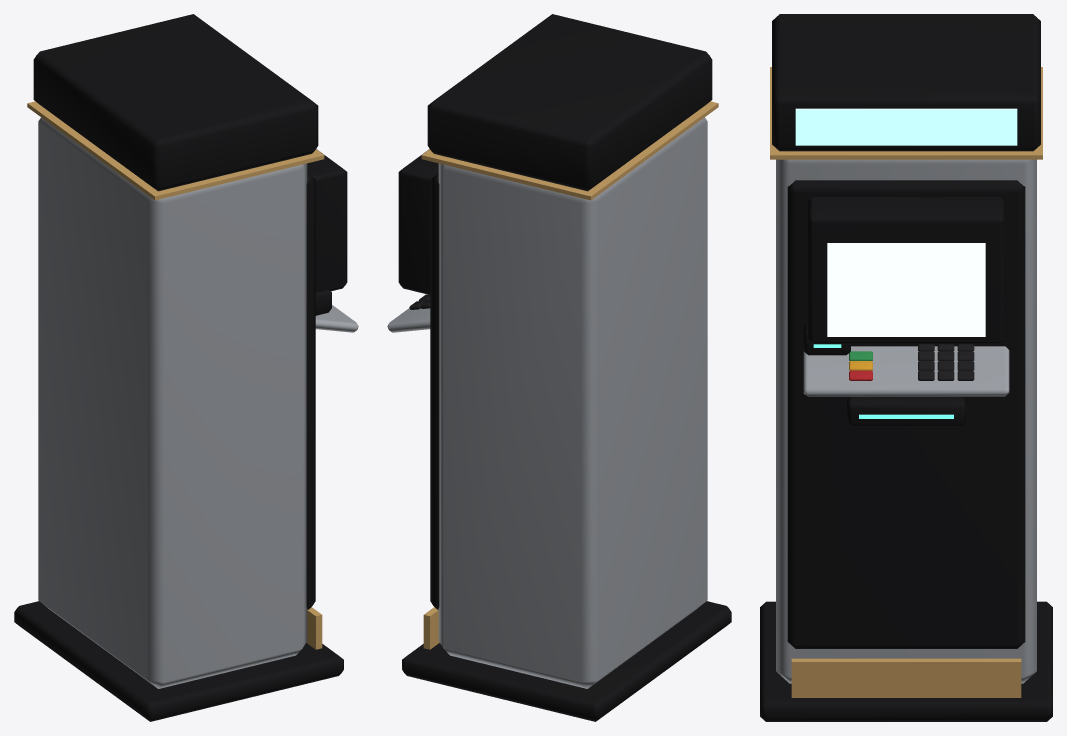
File: atm.glb
3 renders of one model, left to right at view 1: azimuth 30°, elevation 25°; view 2: azimuth 150°, elevation 25°; view 3: azimuth 270°, elevation 25°, orthographic. The views are drawn at different scales.
Parts seen in each view (by area): view 1: Mesh_Tower, Mesh_Header, Mesh_Plinth, Mesh_Hood, Mesh_Face, Mesh_TrimTop, Mesh_ShelfTop, Mesh_Kick; view 2: Mesh_Tower, Mesh_Header, Mesh_Plinth, Mesh_Hood, Mesh_Face, Mesh_TrimTop, Mesh_ShelfTop, Mesh_Kick; view 3: Mesh_Face, Mesh_Header, Mesh_Tower, Mesh_glowScreen, Mesh_Hood, Mesh_Plinth, Mesh_Kick, Mesh_glowHeader, Mesh_ShelfTop, Mesh_CashBox, Mesh_TrimTop, Mesh_Reader (+1 smaller).
Part boxes in pixels (left/top/right/bottom): Mesh_Tower: left=38, top=117, right=307, bottom=688; Mesh_Header: left=33, top=14, right=318, bottom=191; Mesh_Plinth: left=14, top=601, right=343, bottom=721; Mesh_Hood: left=307, top=149, right=347, bottom=292; Mesh_Face: left=306, top=173, right=315, bottom=609; Mesh_TrimTop: left=27, top=101, right=324, bottom=200; Mesh_ShelfTop: left=315, top=305, right=358, bottom=332; Mesh_Kick: left=306, top=607, right=322, bottom=649; Mesh_Tower: left=438, top=117, right=707, bottom=688; Mesh_Header: left=427, top=14, right=712, bottom=191; Mesh_Plinth: left=402, top=601, right=731, bottom=721; Mesh_Hood: left=398, top=149, right=438, bottom=294; Mesh_Face: left=430, top=173, right=439, bottom=609; Mesh_TrimTop: left=421, top=101, right=718, bottom=200; Mesh_ShelfTop: left=387, top=308, right=430, bottom=332; Mesh_Kick: left=423, top=607, right=439, bottom=649; Mesh_Face: left=787, top=180, right=1025, bottom=648; Mesh_Header: left=772, top=14, right=1040, bottom=151; Mesh_Tower: left=776, top=159, right=1036, bottom=683; Mesh_glowScreen: left=827, top=243, right=985, bottom=336; Mesh_Hood: left=807, top=197, right=1005, bottom=344; Mesh_Plinth: left=760, top=601, right=1052, bottom=721; Mesh_Kick: left=791, top=658, right=1021, bottom=697; Mesh_glowHeader: left=795, top=108, right=1017, bottom=145; Mesh_ShelfTop: left=803, top=346, right=1009, bottom=396; Mesh_CashBox: left=847, top=396, right=965, bottom=426; Mesh_TrimTop: left=770, top=67, right=1042, bottom=159; Mesh_Reader: left=803, top=323, right=850, bottom=355.
Bounding box in the file's own units: 0.7267 × 1.72 × 0.74.
